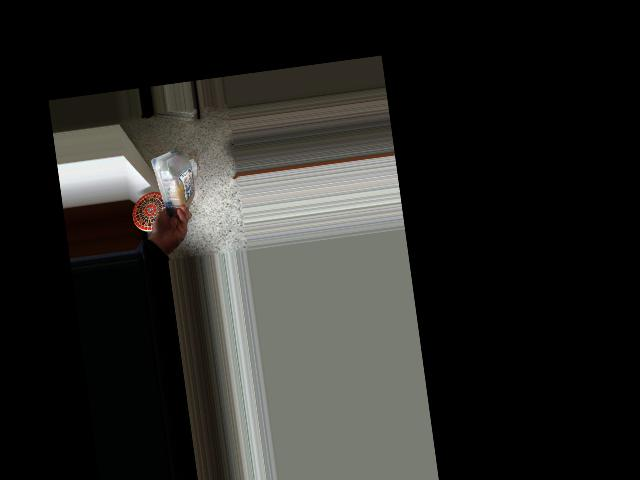cheese: (152, 146, 198, 216)
